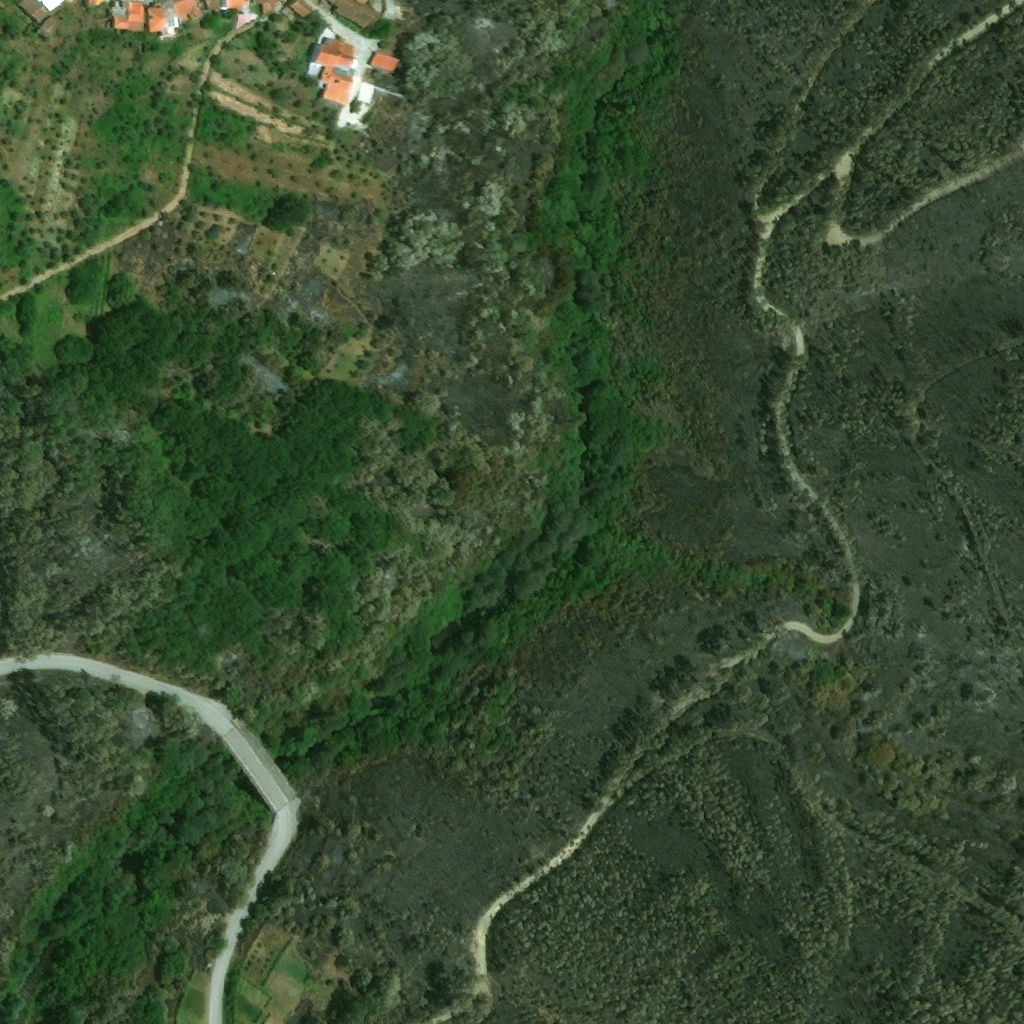0 no-damage: (306, 26, 360, 105), (327, 0, 383, 30), (148, 0, 180, 38), (111, 0, 146, 31), (18, 0, 50, 23), (370, 50, 401, 72), (37, 14, 63, 38), (175, 0, 203, 20), (289, 0, 312, 18), (281, 6, 295, 24)
4 un-classified: (80, 13, 115, 27), (357, 79, 376, 104), (382, 0, 402, 20), (40, 0, 65, 11), (221, 0, 250, 9), (369, 0, 382, 11), (205, 0, 219, 10), (86, 0, 104, 6), (205, 961, 213, 969), (357, 0, 367, 4)
